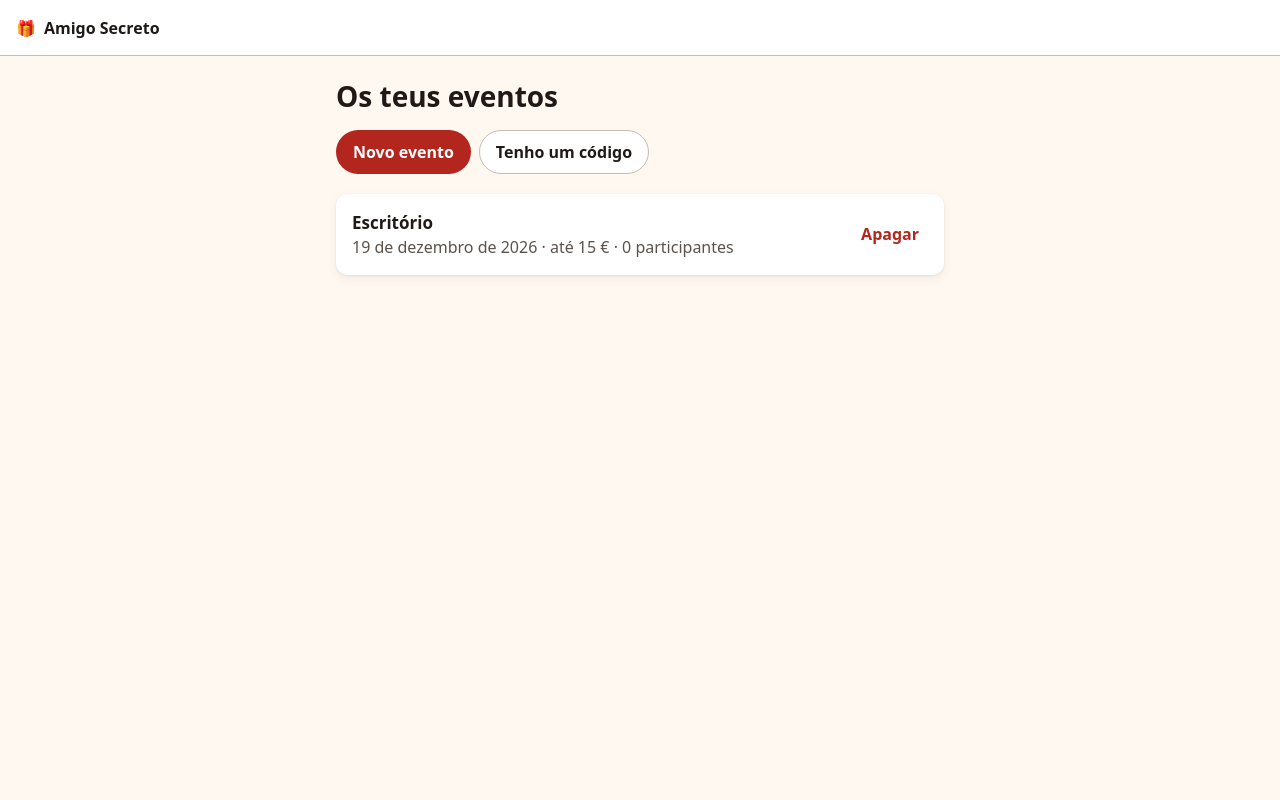
Test: fluxo do organizador › apaga um evento depois de confirmar
Click the button with aria-label "Apagar Escritório" at (890, 234), box [844, 212, 936, 256]
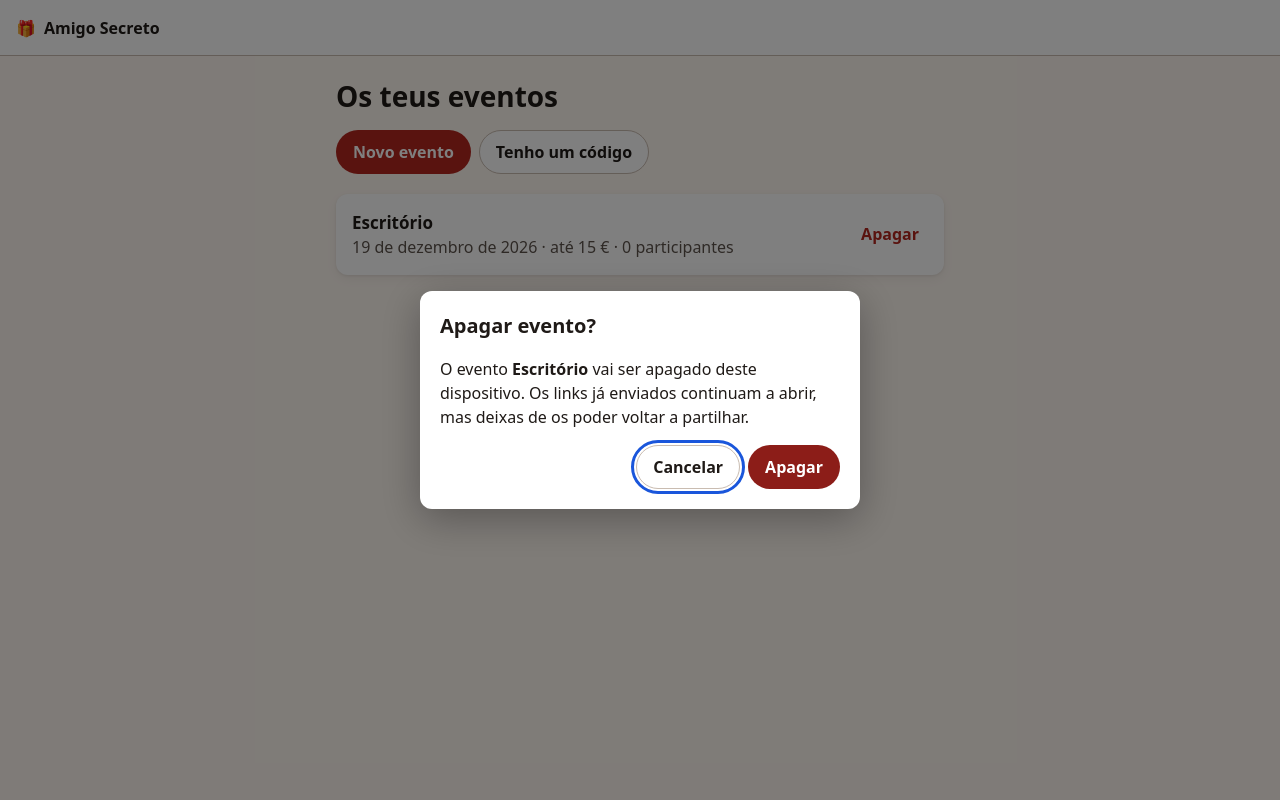
Click the button "Apagar" at (794, 467), box [748, 445, 840, 489]
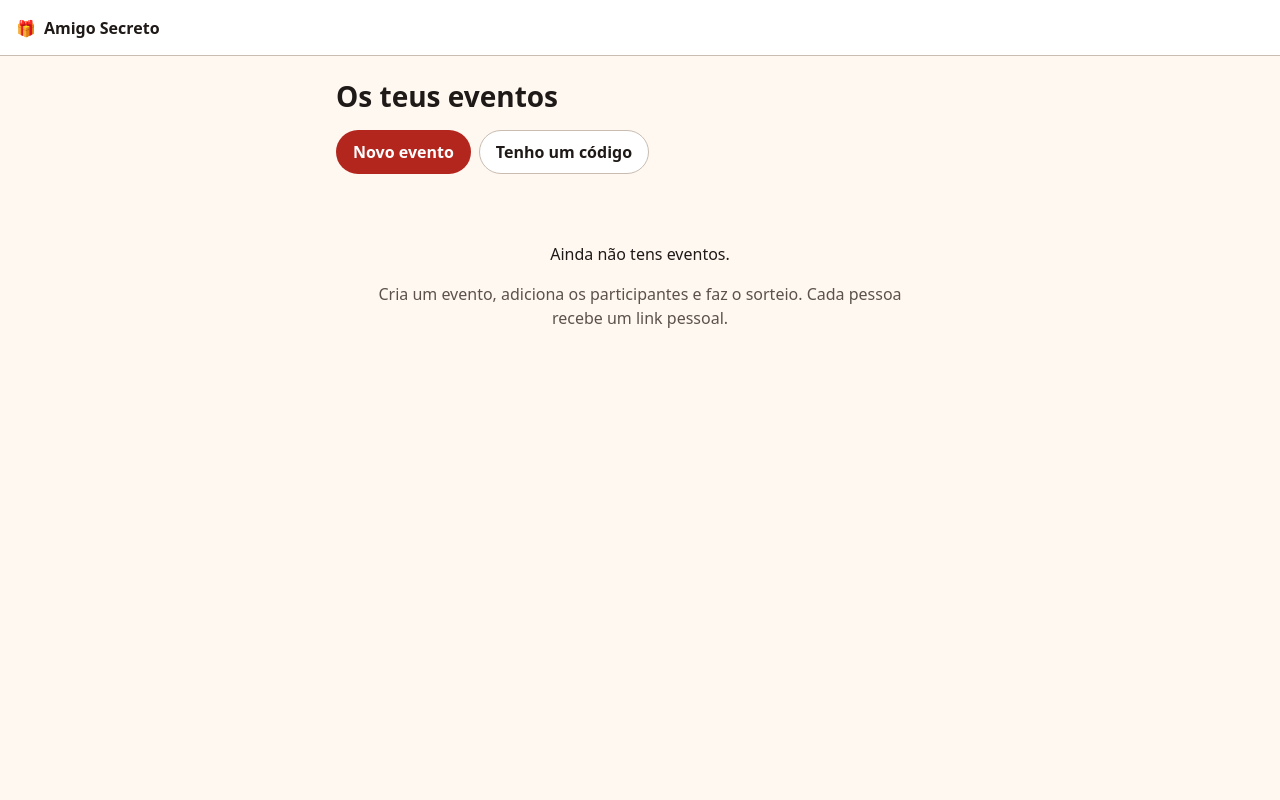
Expected: the text "Ainda não tens eventos." is shown, [550, 243, 730, 265]
